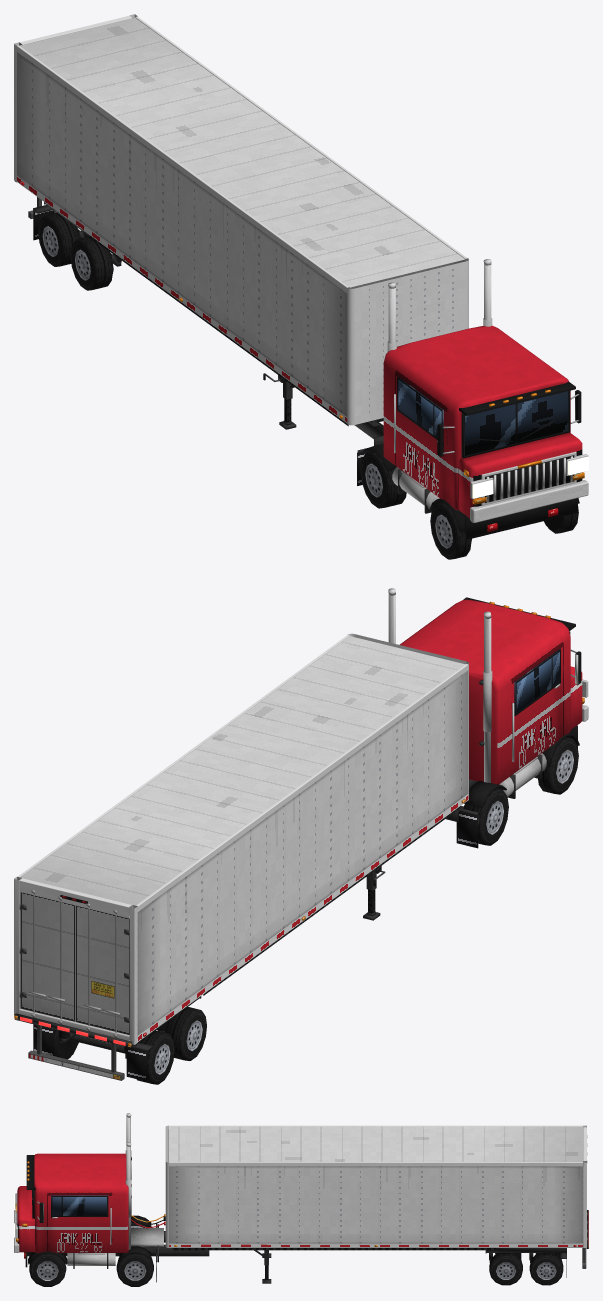
Rendered from p_semi.glb.
3 views of the same model, one above another, from view 1: azimuth 30°, elevation 25°; view 2: azimuth 150°, elevation 25°; view 3: azimuth 270°, elevation 25° (orthographic). The views are drawn at different scales.
Parts seen in each view (by area): view 1: semi_lod0; view 2: semi_lod0; view 3: semi_lod0.
Part boxes in pixels (x1,y1,x2,y2): semi_lod0: (14,14,588,559); semi_lod0: (14,588,588,1084); semi_lod0: (14,1113,588,1286).
Size of what is drawn, in the model's own units: 3.04 by 4.61 by 17.06.
Materials: 7 (5 with a texture image).
